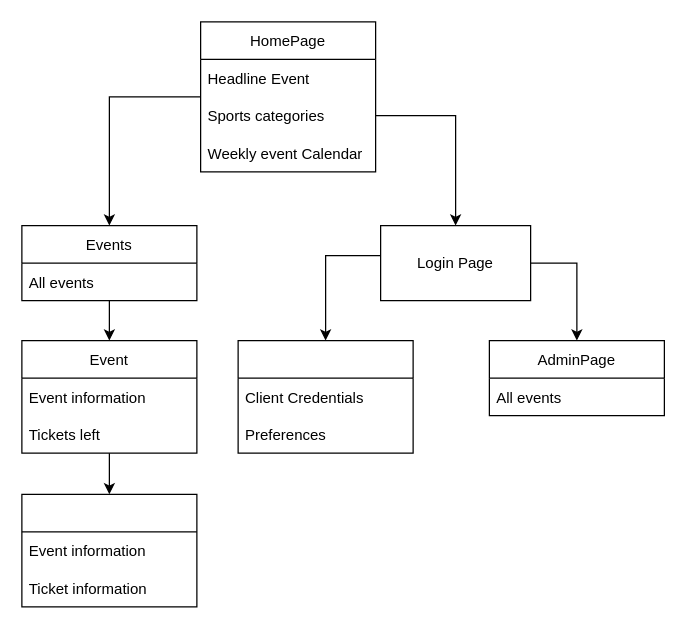
Image size: 686x629. Some labels were removed from this diagram. Here are the shapes that lost their labels. From the top down, the box of each, then its label:
(237, 339, 413, 453): ClientPage
(21, 493, 197, 607): TicketPurchase
